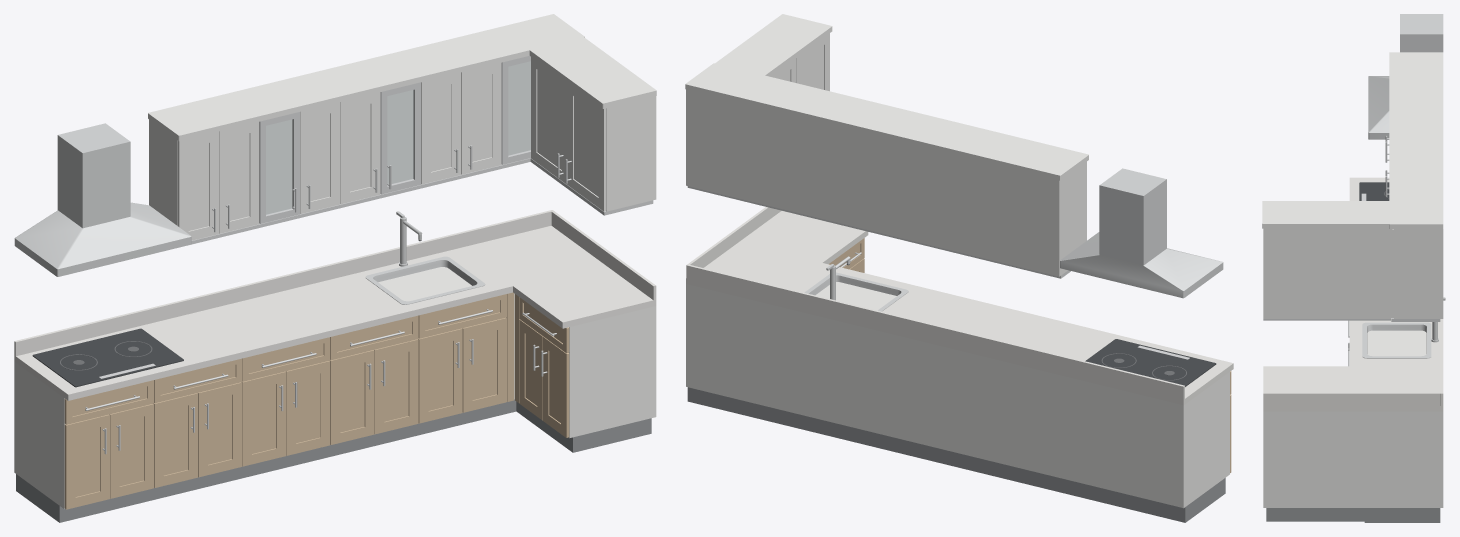
The picture shows the model from 3 angles, left to right: view 1: azimuth 30°, elevation 25°; view 2: azimuth 150°, elevation 25°; view 3: azimuth 270°, elevation 25°; orthographic projection. The views are drawn at different scales.
Parts seen in each view (by area): view 1: Tủ bếp chữ L Dài cạnh chính=3600; Dài cạnh phụ=1200; Sâu tủ ; view 2: Tủ bếp chữ L Dài cạnh chính=3600; Dài cạnh phụ=1200; Sâu tủ ; view 3: Tủ bếp chữ L Dài cạnh chính=3600; Dài cạnh phụ=1200; Sâu tủ .
Boxes of the visible parts, left/top/right/bottom form: Tủ bếp chữ L Dài cạnh chính=3600; Dài cạnh phụ=1200; Sâu tủ : left=14, top=14, right=656, bottom=522; Tủ bếp chữ L Dài cạnh chính=3600; Dài cạnh phụ=1200; Sâu tủ : left=685, top=14, right=1233, bottom=522; Tủ bếp chữ L Dài cạnh chính=3600; Dài cạnh phụ=1200; Sâu tủ : left=1262, top=14, right=1445, bottom=522.
Size of the model in its own units: 3.61 by 2.2 by 1.22.
